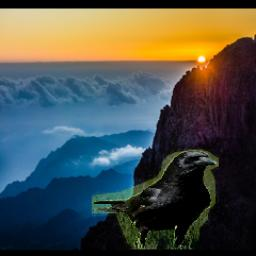Crow: (93, 149, 220, 249)
